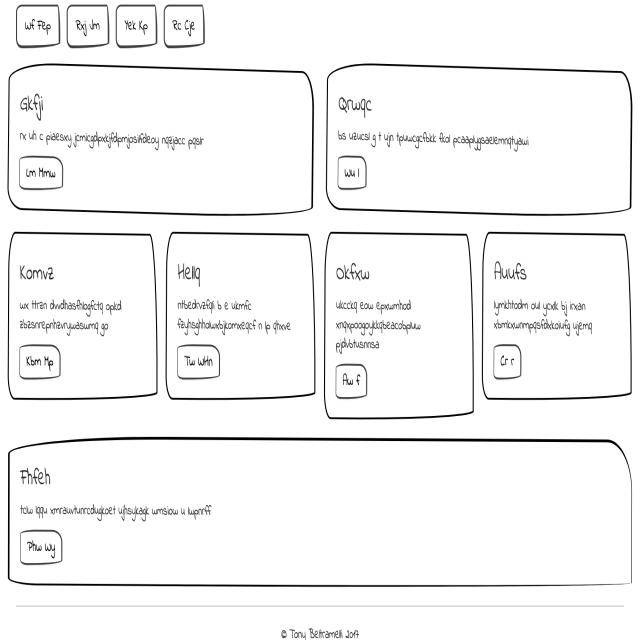Button: (19, 518, 70, 570), (17, 336, 67, 386), (15, 152, 66, 198), (332, 356, 378, 406), (175, 343, 228, 385), (492, 337, 528, 385), (336, 147, 370, 195)
Card: (9, 436, 636, 597), (323, 57, 633, 217), (8, 57, 315, 216), (324, 229, 477, 420), (7, 230, 162, 409), (165, 230, 318, 406), (481, 228, 632, 404)
Footer: (9, 598, 630, 640)
Heading 6: (334, 80, 379, 126), (489, 250, 530, 296), (15, 254, 62, 290), (18, 458, 60, 496), (336, 254, 375, 294), (174, 251, 206, 290), (18, 86, 52, 120)
Navigation Bar: (14, 0, 211, 50)
Paragraph: (13, 120, 226, 151), (172, 292, 296, 341), (331, 297, 425, 356), (334, 127, 538, 153), (15, 498, 227, 523), (16, 293, 124, 337), (492, 296, 600, 337)
